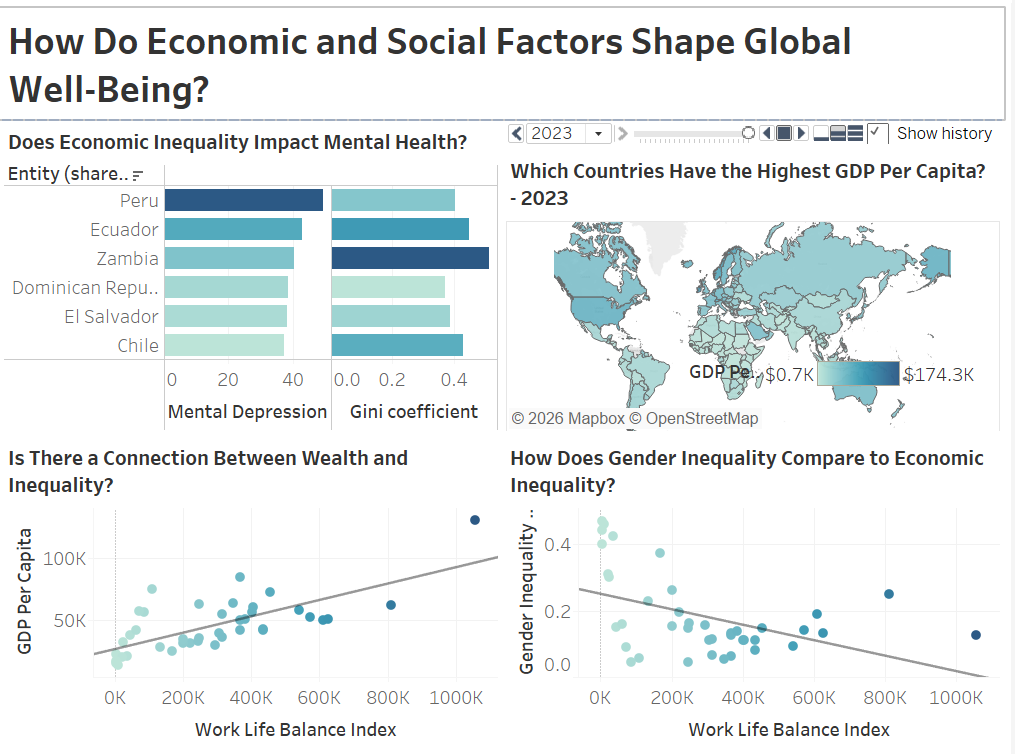

Layout of this report page (visuals, bound fields, positions):
{"tool":"tableau","page":{"name":"How Do Economic and Social Factors Shape Global Well-Being?","canvas":[1020,760],"ordinal":0},"visuals":[{"type":"title","box":[8,8,1004,44]},{"type":"worksheet","title":"Does Economic Inequality Impact Mental Health?","mark":"Automatic","rows":["Entity (share-who-report-lifetime-anxiety-or-depression.csv)"],"cols":["Gini coefficient"],"box":[8,52,502,350]},{"type":"currpage","title":"Which Countries Have the Highest GDP Per Capita?","box":[510,52,502,32]},{"type":"worksheet","title":"Which Countries Have the Highest GDP Per Capita?","mark":"Automatic","box":[510,84,502,318]},{"type":"legend","title":"Which Countries Have the Highest GDP Per Capita?","param":"[federated.1mubinx03b20kh12gckys11gsrth].[sum:GDP Per Capita:qk]","box":[697,357,290,48]},{"type":"worksheet","title":"Is There a Connection Between Wealth and Inequality?","mark":"Automatic","rows":["GDP Per Capita"],"cols":["Inequality Index"],"box":[8,402,502,350]},{"type":"worksheet","title":"How Does Gender Inequality Compare to Economic Inequality?","mark":"Automatic","rows":["Gender Inequality Index"],"cols":["Inequality Index"],"box":[510,402,502,350]}]}

Visuals, with their boxes in screenshot pixels (x1, y1, x2, y2), scaled from the page's 1020x760 canvas onto the 1015x754 screenshot:
title: rect(8, 8, 1007, 52)
"Does Economic Inequality Impact Mental Health?" worksheet: rect(8, 52, 508, 399)
"Which Countries Have the Highest GDP Per Capita?" currpage: rect(508, 52, 1007, 83)
"Which Countries Have the Highest GDP Per Capita?" worksheet: rect(508, 83, 1007, 399)
"Which Countries Have the Highest GDP Per Capita?" legend: rect(694, 354, 982, 402)
"Is There a Connection Between Wealth and Inequality?" worksheet: rect(8, 399, 508, 746)
"How Does Gender Inequality Compare to Economic Inequality?" worksheet: rect(508, 399, 1007, 746)
